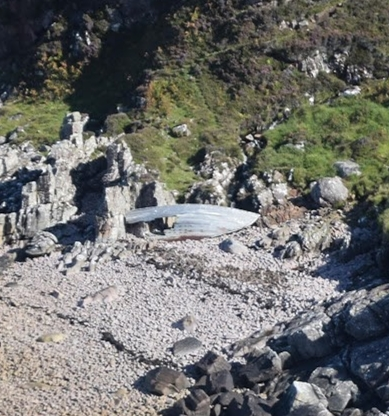boat_cabin: (119, 200, 266, 243)
